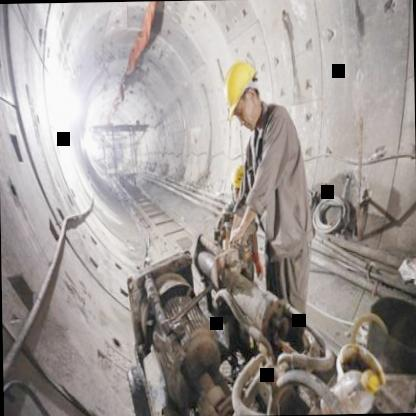helmet: (221, 52, 266, 132), (224, 161, 252, 214)
